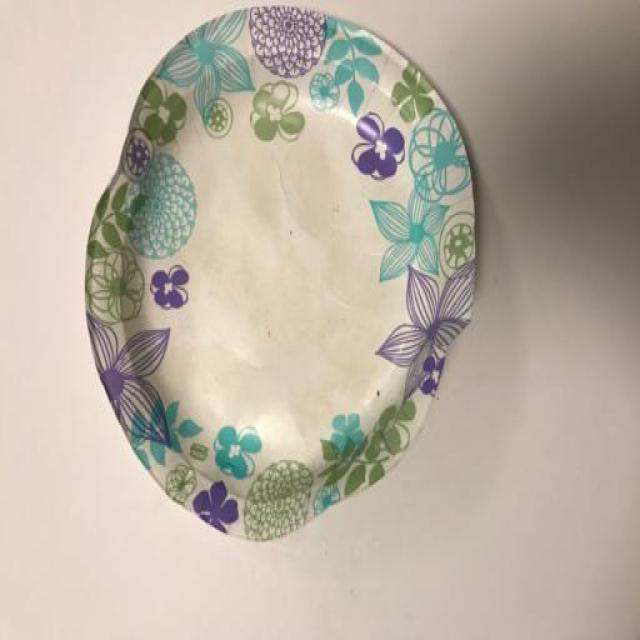others: (83, 1, 482, 559)
